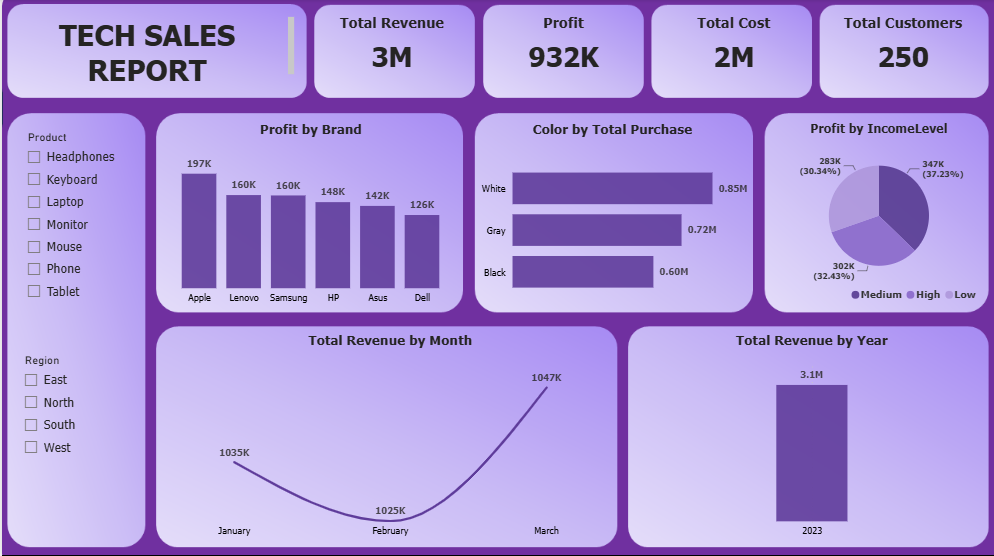

The page's visual inventory and layout, read from the dashboard file:
{"tool":"powerbi","page":{"name":"Page 1","canvas":[1280,720],"ordinal":0},"visuals":[{"type":"clusteredColumnChart","fields":{"Category":["Products.Brand"],"Y":["Sales.Profit"]},"box":[204.1,157.3,389.8,243.8],"z":0},{"type":"clusteredBarChart","title":"Color by Total Purchase","fields":{"Category":["Products.Color"],"Y":["Sales.Total Cost"]},"box":[608,157.3,360,243.8],"z":1000},{"type":"lineStackedColumnComboChart","fields":{"Category":["Sales.SaleDate.Variation.Date Hierarchy.Year"],"Y":["Sales.Total Revenue"]},"box":[821.5,429.2,446.2,272.3],"z":2000},{"type":"lineChart","fields":{"Category":["Sales.SaleDate.Variation.Date Hierarchy.Month"],"Y":["Sales.Total Revenue"]},"box":[214,429.4,574,272.1],"z":3000},{"type":"pieChart","fields":{"Category":["Customers.IncomeLevel"],"Y":["Sales.Profit"]},"box":[996.4,157.3,270.7,243.8],"z":4000},{"type":"slicer","fields":{"Values":["Customers.Region"]},"box":[17,453.5,165.4,228.8],"z":5000},{"type":"slicer","fields":{"Values":["Products.ProductName"]},"box":[21.2,165.4,158.4,254.9],"z":6000},{"type":"card","title":"Total Revenue","fields":{"Values":["Sales.Total Revenue"]},"box":[381.3,18.4,245.2,79.4],"z":7000},{"type":"card","title":"Profit","fields":{"Values":["Sales.Profit"]},"box":[608,18.4,233.9,79.4],"z":8000},{"type":"textbox","box":[0,18.6,381.9,105.8],"z":9000},{"type":"card","title":"Total Customers","fields":{"Values":["Customers.Total Customers"]},"box":[1044.6,18.4,235.3,79.4],"z":10000},{"type":"card","title":"Total Cost","fields":{"Values":["Sales.Total Cost"]},"box":[830.6,18.4,226.8,79.4],"z":11000}]}

Visuals, with their boxes in screenshot pixels (x1, y1, x2, y2), scaled from the page's 1280x720 canvas onto the 994x556 screenshot:
clusteredColumnChart - Products.Brand x Sales.Profit: rect(158, 121, 461, 310)
"Color by Total Purchase" clusteredBarChart: rect(472, 121, 752, 310)
lineStackedColumnComboChart - Sales.SaleDate.Variation.Date Hierarchy.Year x Sales.Total Revenue: rect(638, 331, 984, 542)
lineChart - Sales.SaleDate.Variation.Date Hierarchy.Month x Sales.Total Revenue: rect(166, 332, 612, 542)
pieChart - Customers.IncomeLevel x Sales.Profit: rect(774, 121, 984, 310)
slicer - Customers.Region: rect(13, 350, 142, 527)
slicer - Products.ProductName: rect(16, 128, 139, 325)
"Total Revenue" card: rect(296, 14, 487, 76)
"Profit" card: rect(472, 14, 654, 76)
textbox: rect(0, 14, 297, 96)
"Total Customers" card: rect(811, 14, 993, 76)
"Total Cost" card: rect(645, 14, 821, 76)
